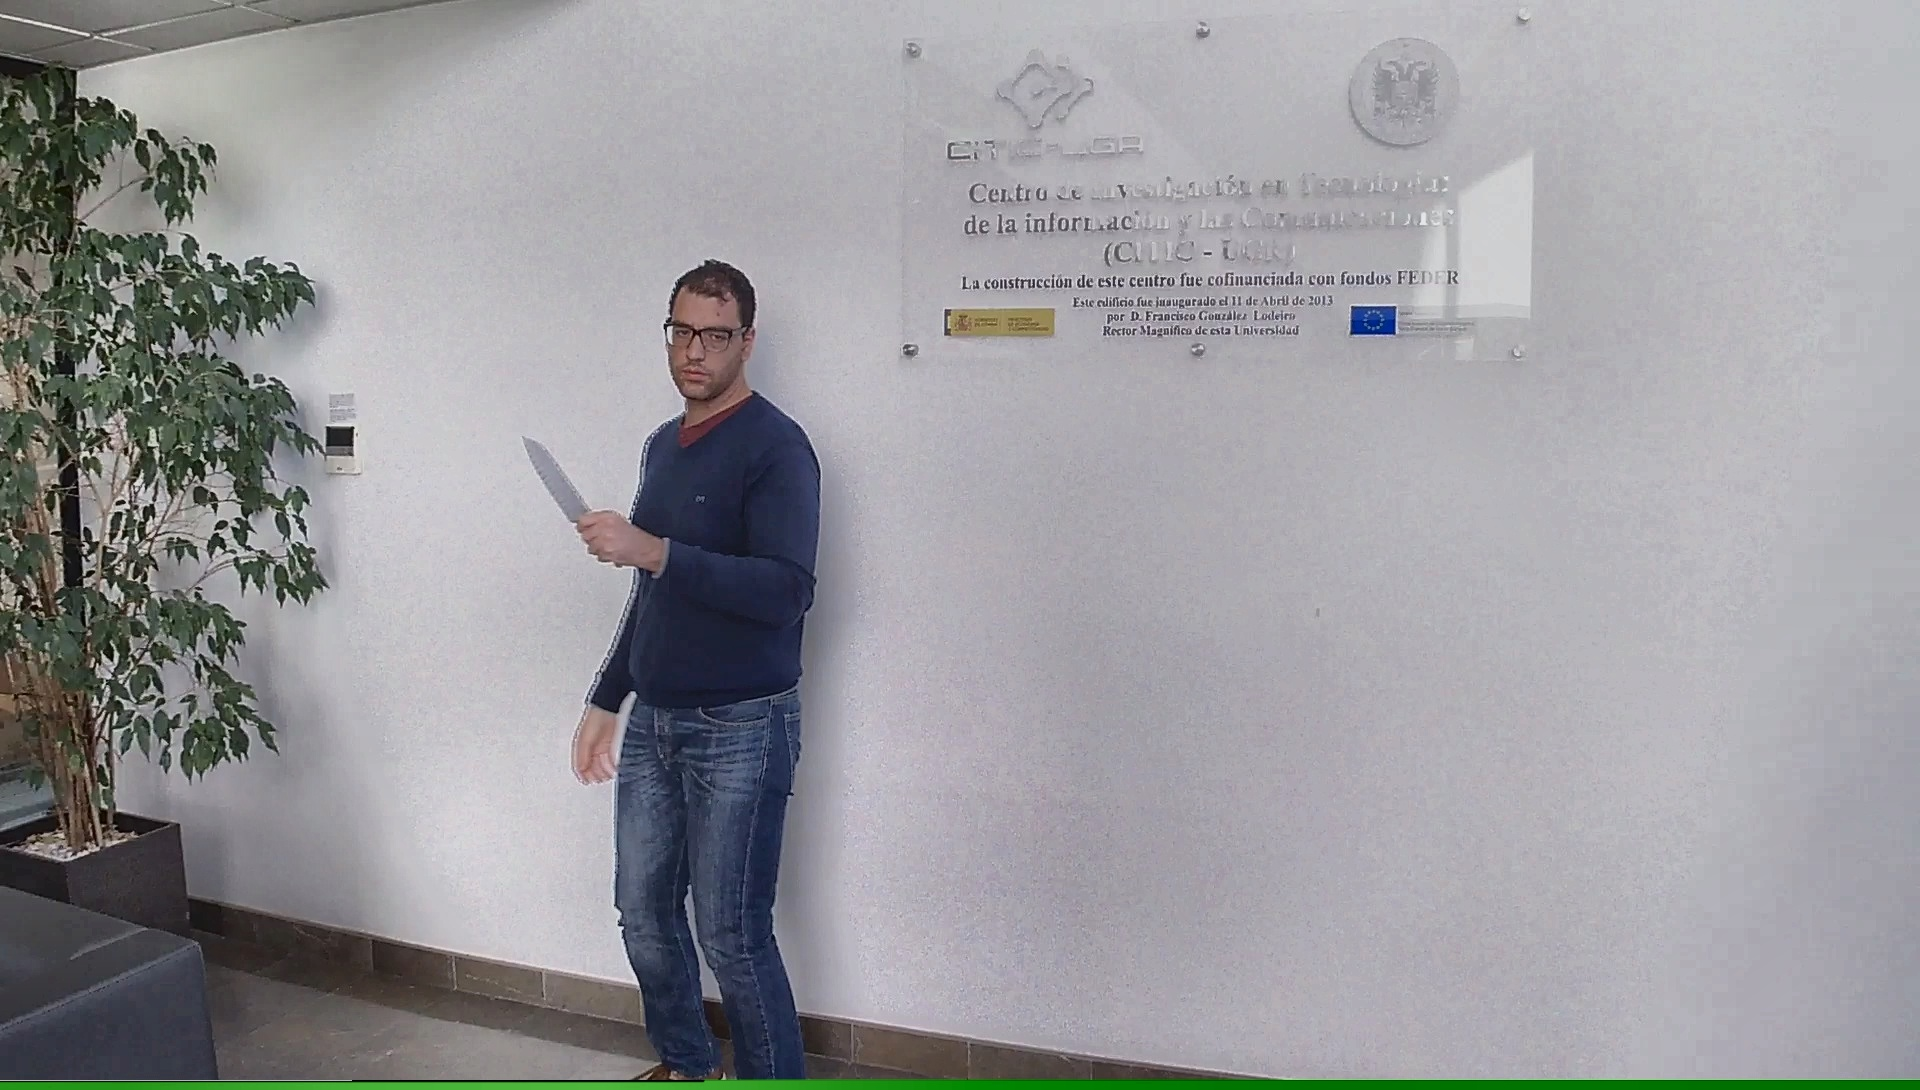knife: (513, 428, 628, 573)
